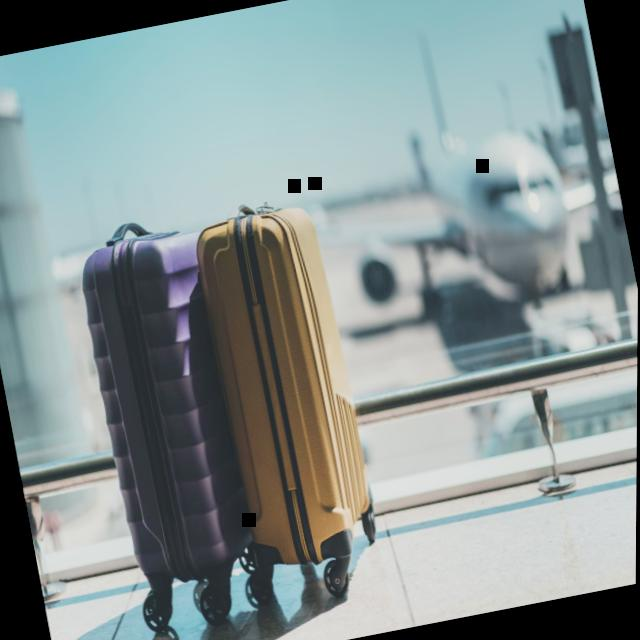luggage: (64, 203, 273, 602), (181, 189, 390, 583)
